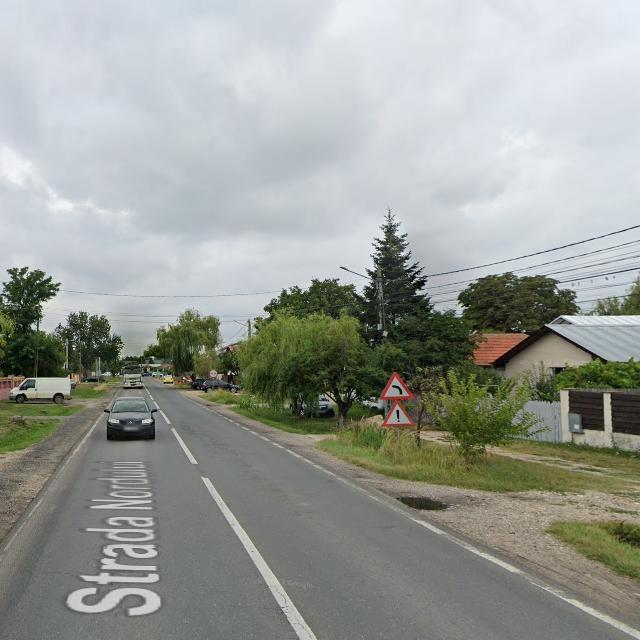warn_left_curve: (379, 372, 416, 400)
